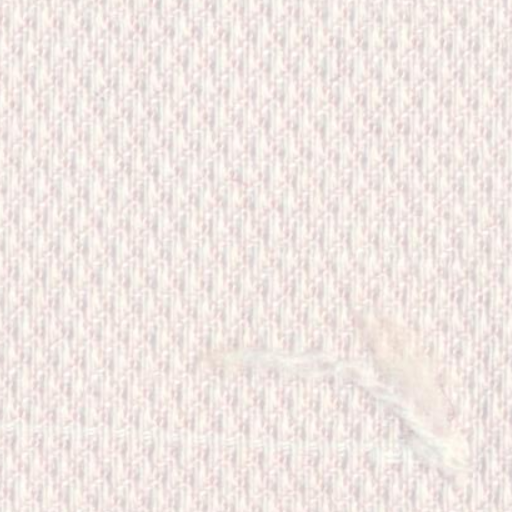DuanSha: (194, 316, 480, 480)
